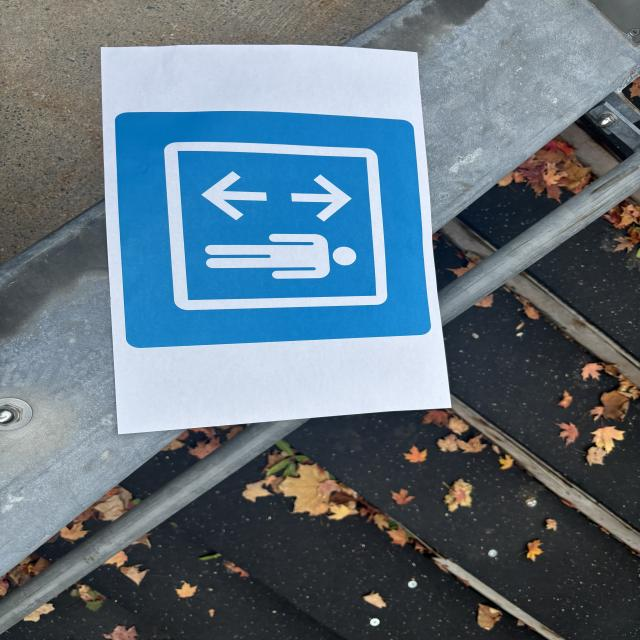elevator: (114, 117, 431, 343)
